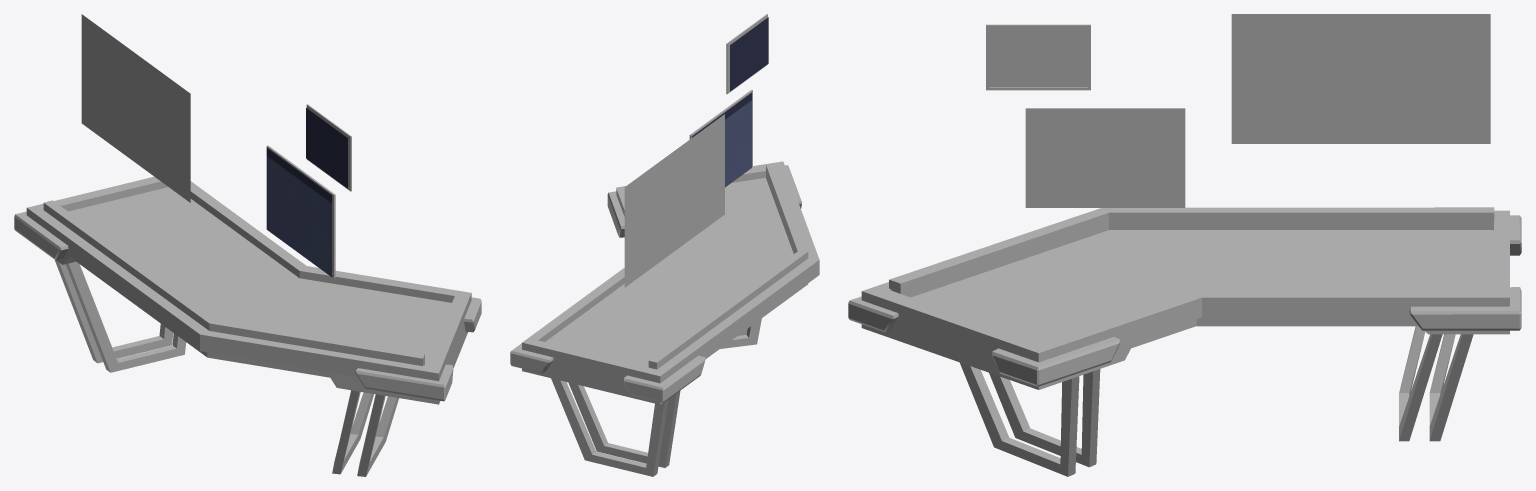
File: centerdesk.fbx
The picture shows the model from 3 angles, left to right: view 1: azimuth 30°, elevation 25°; view 2: azimuth 150°, elevation 25°; view 3: azimuth 270°, elevation 25°; orthographic projection. The views are drawn at different scales.
Parts seen in each view (by area): view 1: polySurface11, pasted__pPlane1, pCube33, pCube32, pasted__pCube23; view 2: polySurface11, pasted__pPlane1, pCube33, pCube32, pasted__pCube23; view 3: polySurface11, pasted__pPlane1, pCube30, pasted__pCube23.
Boxes of the visible parts, x1,y1,x2,y2 form: polySurface11: [14, 176, 481, 476]; pasted__pPlane1: [81, 14, 190, 202]; pCube33: [266, 148, 331, 276]; pCube32: [306, 108, 347, 188]; pasted__pCube23: [266, 104, 351, 278]; polySurface11: [510, 161, 819, 476]; pasted__pPlane1: [624, 114, 724, 287]; pCube33: [692, 92, 751, 187]; pCube32: [730, 17, 768, 91]; pasted__pCube23: [689, 14, 767, 167]; polySurface11: [848, 207, 1521, 476]; pasted__pPlane1: [1231, 14, 1490, 143]; pCube30: [989, 28, 1181, 204]; pasted__pCube23: [986, 24, 1185, 207].
Size of the model in its own units: 15.28 by 19.17 by 28.37.
